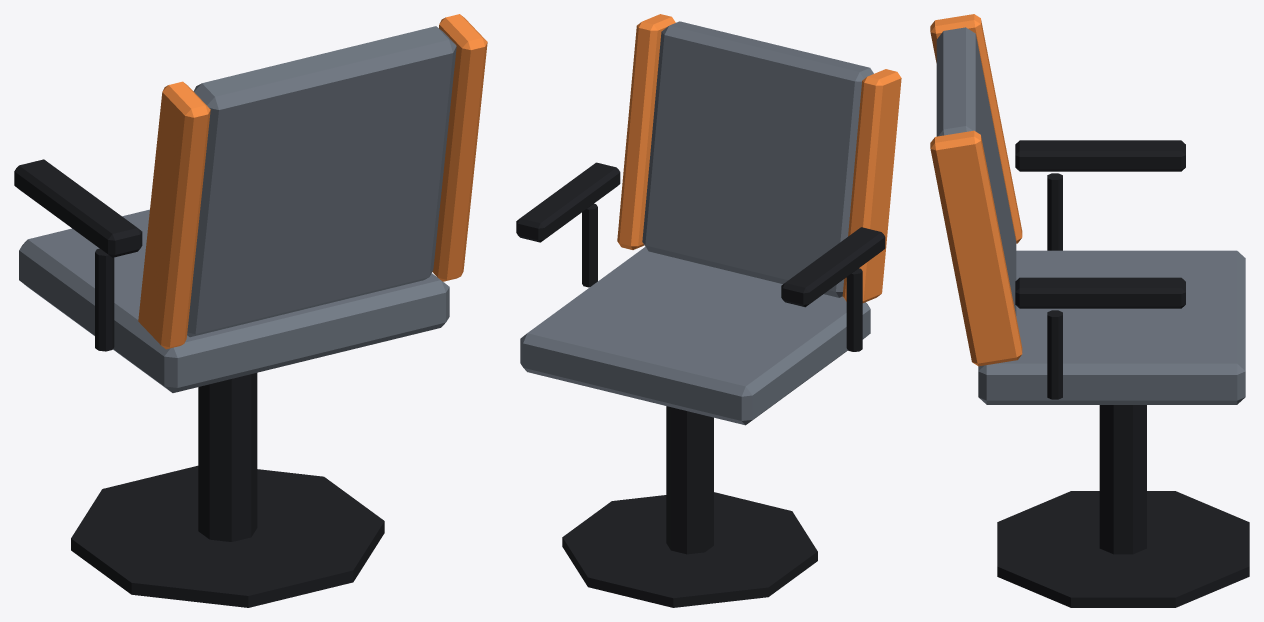
The model's file is operator_seat.glb.
The picture shows the model from 3 angles, left to right: view 1: azimuth 30°, elevation 25°; view 2: azimuth 150°, elevation 25°; view 3: azimuth 270°, elevation 25°; orthographic projection. The views are drawn at different scales.
Parts seen in each view (by area): view 1: OperatorSeat; view 2: OperatorSeat; view 3: OperatorSeat.
Part boxes in pixels (x1,y1,x2,y2): OperatorSeat: (14,14,487,607); OperatorSeat: (516,14,901,607); OperatorSeat: (930,14,1249,607).
Size of the model in its own units: 0.63 by 0.9294 by 0.5607.
